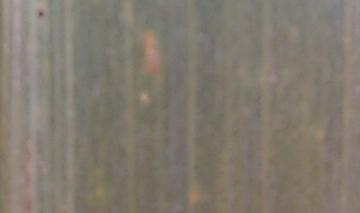tarspot: (37, 8, 45, 20)
